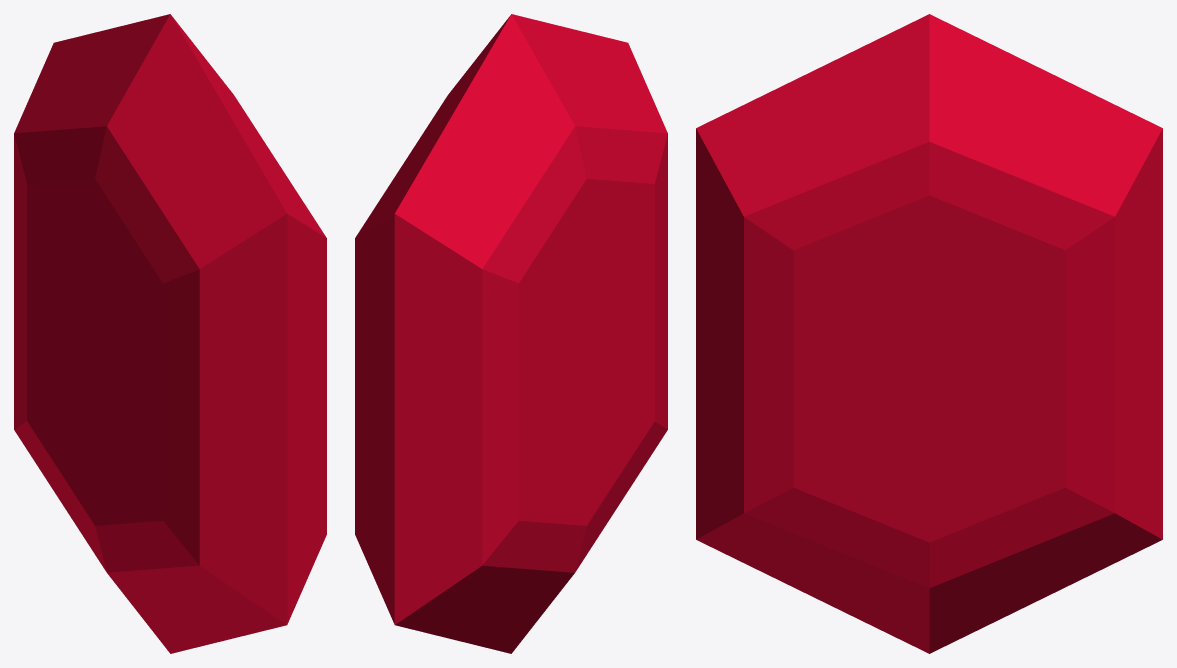
Rendered from Ruby.fbx.
3 renders of one model, left to right at view 1: azimuth 30°, elevation 25°; view 2: azimuth 150°, elevation 25°; view 3: azimuth 270°, elevation 25°, orthographic.
Parts seen in each view (by area): view 1: Ruby; view 2: Ruby; view 3: Ruby.
Part boxes in pixels (x1,y1,x2,y2): Ruby: (14, 14, 326, 653); Ruby: (355, 14, 667, 653); Ruby: (696, 14, 1162, 653).
Bounding box in the file's own units: 11.86 × 49.29 × 32.58.
